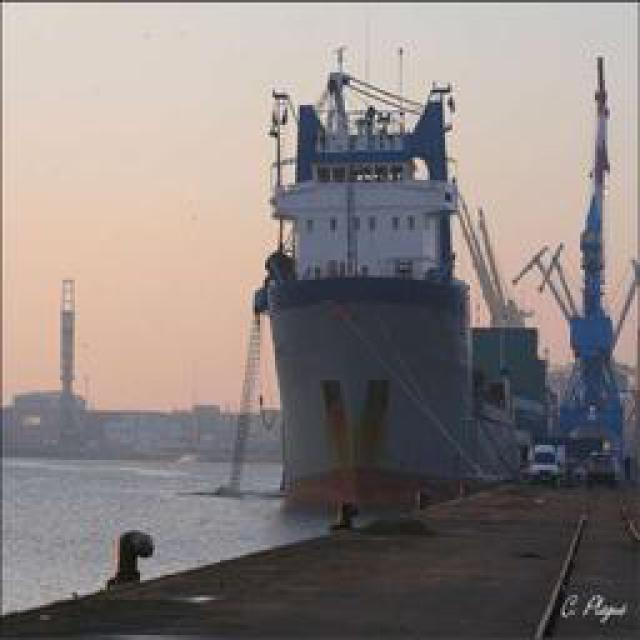Ship: (257, 37, 517, 505)
